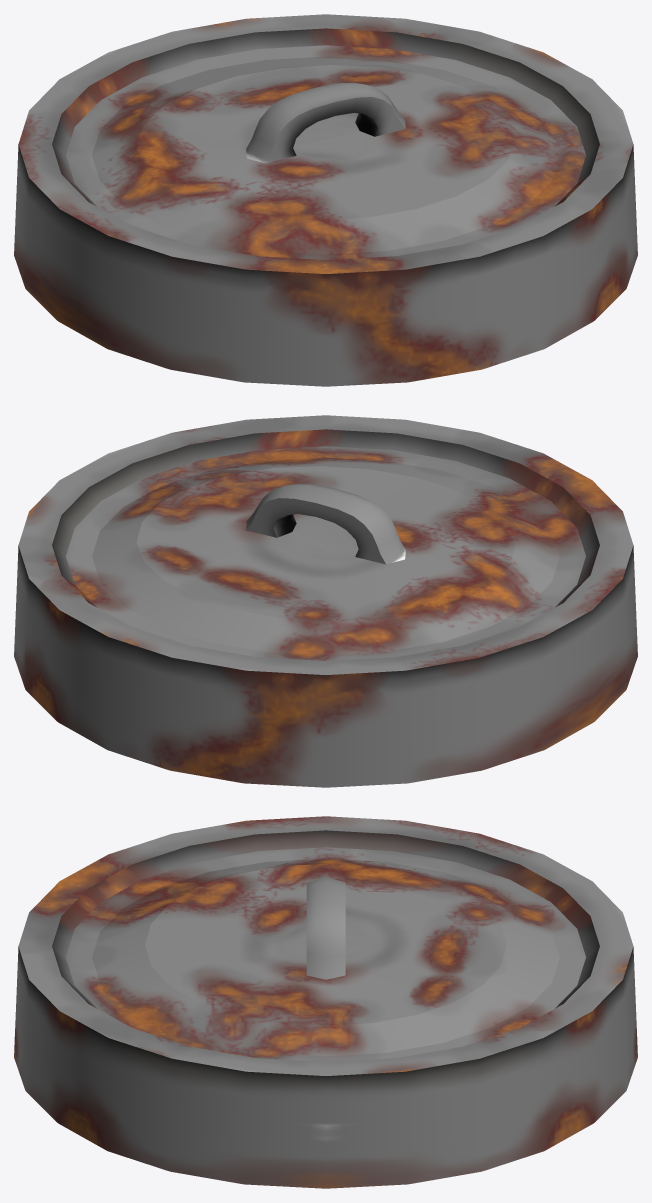
File: Bueiro.fbx
3 renders of one model, top to bottom at view 1: azimuth 30°, elevation 25°; view 2: azimuth 150°, elevation 25°; view 3: azimuth 270°, elevation 25°, orthographic.
Parts seen in each view (by area): view 1: Bueiro; view 2: Bueiro; view 3: Bueiro.
Boxes of the visible parts, x1,y1,x2,y2 form: Bueiro: (14, 14, 637, 386); Bueiro: (14, 415, 637, 787); Bueiro: (14, 816, 637, 1188).
Size of the model in its own units: 1.61 by 0.4771 by 1.62.
